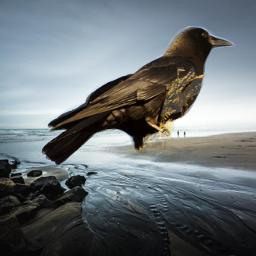Crow: (41, 22, 237, 171)
